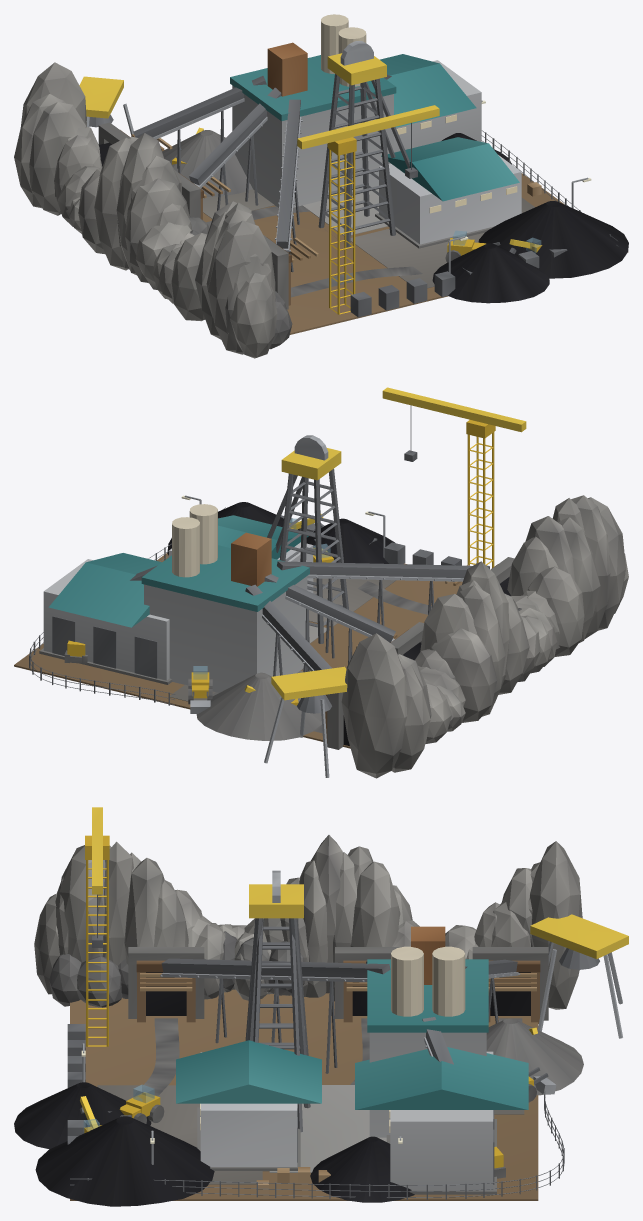
The model's file is Mine_P3.fbx.
3 renders of one model, top to bottom at view 1: azimuth 30°, elevation 25°; view 2: azimuth 150°, elevation 25°; view 3: azimuth 270°, elevation 25°, orthographic. The views are drawn at different scales.
Visible parts, largest first — view 1: Mine.Cliff, Mine.Plant, Mine.Apron, Mine.Winder, Mine.Headframe, Mine.Spoil0, Mine.Crusher, Mine.Crane, Mine.Spoil1, Mine.Conv1, Mine.Conv0, Mine.Clutter (+9 smaller); view 2: Mine.Cliff, Mine.Plant, Mine.Crusher, Mine.Apron, Mine.Headframe, Mine.Spoil2, Mine.Crane, Mine.Conv0, Mine.LoadGantry, Mine.Conv1, Mine.Spoil1, Mine.Conv2 (+8 smaller); view 3: Mine.Cliff, Mine.Apron, Mine.Crusher, Mine.Winder, Mine.Plant, Mine.Spoil0, Mine.Headframe, Mine.Conv0, Mine.Adit0, Mine.LoadGantry, Mine.Spoil3, Mine.Spoil1 (+11 smaller).
Part boxes in pixels (x1,y1,x2,y2): Mine.Cliff: (14, 62, 292, 358); Mine.Plant: (230, 14, 396, 207); Mine.Apron: (203, 173, 628, 334); Mine.Winder: (375, 137, 521, 248); Mine.Headframe: (318, 41, 409, 247); Mine.Spoil0: (478, 201, 628, 278); Mine.Crusher: (380, 54, 481, 152); Mine.Crane: (297, 105, 439, 314); Mine.Spoil1: (432, 243, 549, 303); Mine.Conv1: (189, 87, 281, 210); Mine.Conv0: (275, 99, 302, 272); Mine.Clutter: (350, 182, 567, 317); Mine.Cliff: (341, 495, 628, 778); Mine.Plant: (141, 504, 309, 692); Mine.Crusher: (39, 553, 172, 684); Mine.Apron: (14, 553, 462, 748); Mine.Headframe: (267, 435, 348, 643); Mine.Spoil2: (196, 672, 325, 740); Mine.Crane: (382, 387, 526, 567); Mine.Conv0: (277, 561, 472, 658); Mine.LoadGantry: (264, 666, 347, 777); Mine.Conv1: (264, 574, 395, 671); Mine.Spoil1: (306, 518, 394, 563); Mine.Conv2: (245, 584, 331, 698); Mine.Cliff: (34, 835, 582, 1009); Mine.Apron: (70, 989, 538, 1200); Mine.Crusher: (355, 1047, 528, 1194); Mine.Winder: (176, 1040, 321, 1171); Mine.Plant: (367, 926, 488, 1137); Mine.Spoil0: (35, 1116, 214, 1206); Mine.Headframe: (245, 870, 310, 1132); Mine.Conv0: (160, 958, 390, 1073); Mine.Adit0: (128, 947, 204, 1022); Mine.LoadGantry: (530, 914, 628, 1038); Mine.Spoil3: (310, 1136, 414, 1202); Mine.Spoil1: (14, 1082, 151, 1149).
Size of the model in its own units: 8365 by 3934 by 8928.
